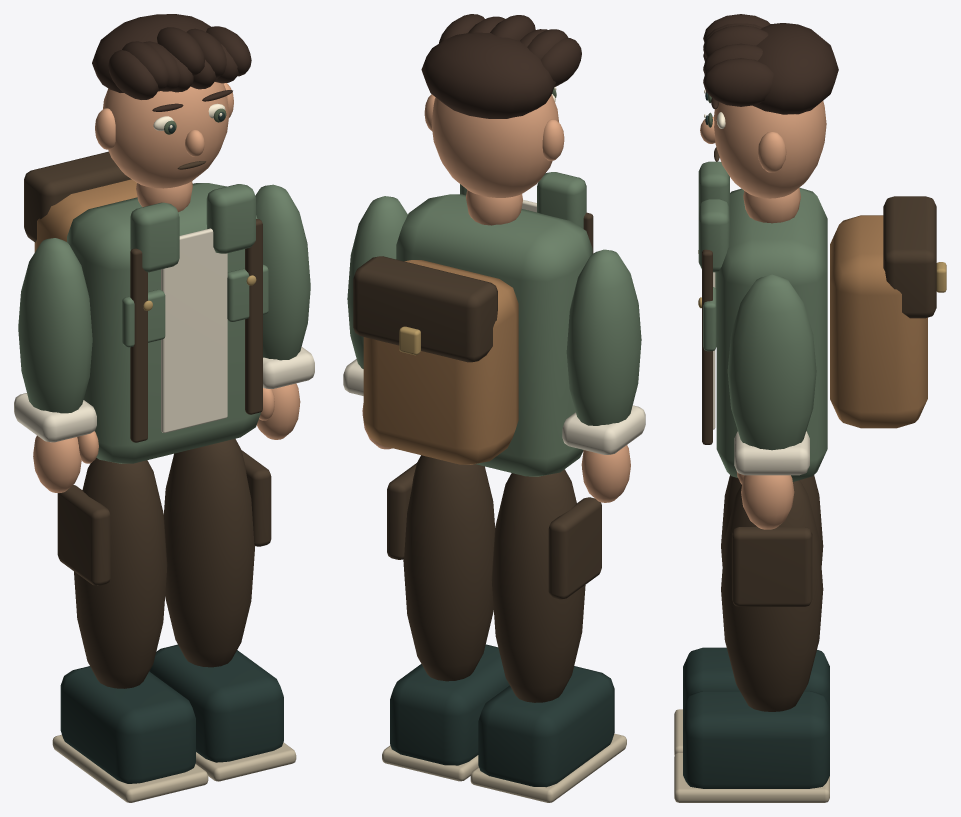
The model's file is TrailGuide.glb.
The picture shows the model from 3 angles, left to right: view 1: azimuth 30°, elevation 25°; view 2: azimuth 150°, elevation 25°; view 3: azimuth 270°, elevation 25°; orthographic projection.
Parts seen in each view (by area): view 1: Jacket, Cargo trousers.001, Cargo trousers, Boot, Cotton shirt, Jacket sleeve, Boot.001, Face, Jacket sleeve.001, Cargo pocket, Backpack flap, Backpack strap (+23 smaller); view 2: Jacket, Canvas backpack, Cargo trousers.001, Cargo trousers, Boot, Backpack flap, Jacket sleeve, Hair cap, Boot.001, Face, Cargo pocket, Jacket sleeve.001 (+14 smaller); view 3: Canvas backpack, Jacket, Boot.001, Jacket sleeve.001, Cargo trousers.001, Face, Cargo pocket.001, Backpack flap, Hair cap, Boot, Swept hair lock.008, Boot sole.001 (+12 smaller).
Boxes of the visible parts, x1,y1,x2,y2 form: Jacket: [67, 183, 260, 463]; Cargo trousers.001: [163, 438, 254, 667]; Cargo trousers: [74, 458, 167, 688]; Boot: [60, 666, 195, 783]; Cotton shirt: [161, 228, 227, 432]; Jacket sleeve: [18, 238, 92, 413]; Boot.001: [149, 644, 283, 762]; Face: [103, 82, 229, 188]; Jacket sleeve.001: [255, 184, 310, 360]; Cargo pocket: [57, 485, 110, 585]; Backpack flap: [24, 151, 131, 242]; Backpack strap: [130, 248, 147, 442]; Jacket: [396, 194, 592, 476]; Canvas backpack: [363, 260, 518, 464]; Cargo trousers.001: [403, 455, 494, 681]; Cargo trousers: [491, 469, 585, 702]; Boot: [478, 666, 614, 787]; Backpack flap: [353, 256, 497, 362]; Jacket sleeve: [566, 249, 641, 425]; Hair cap: [421, 32, 556, 118]; Boot.001: [390, 644, 509, 765]; Face: [431, 94, 559, 197]; Cargo pocket: [548, 497, 601, 599]; Jacket sleeve.001: [347, 196, 407, 368]; Canvas backpack: [830, 215, 927, 428]; Jacket: [716, 187, 827, 481]; Boot.001: [683, 691, 829, 788]; Jacket sleeve.001: [727, 274, 816, 450]; Cargo trousers.001: [721, 480, 823, 711]; Face: [714, 101, 826, 198]; Cargo pocket.001: [732, 527, 812, 606]; Backpack flap: [883, 196, 936, 318]; Hair cap: [753, 23, 838, 114]; Boot: [683, 647, 829, 709]; Swept hair lock.008: [703, 58, 773, 106]; Boot sole.001: [674, 752, 829, 802].
Size of the model in its own units: 0.73 by 1.82 by 0.6125.
